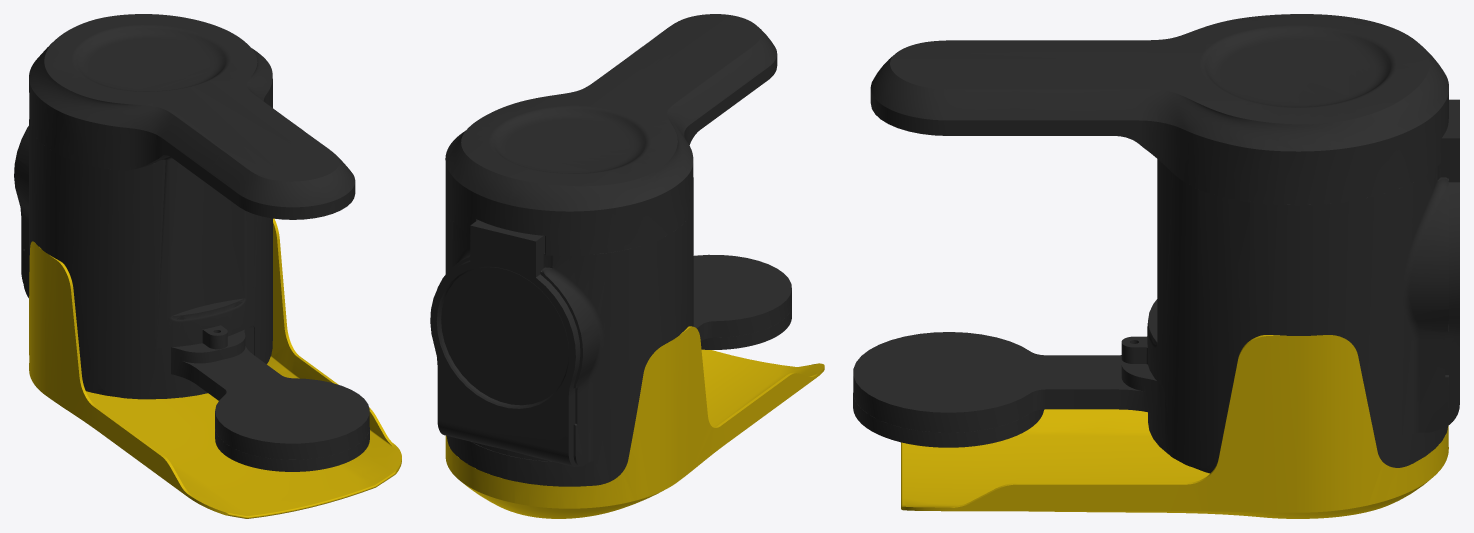
File: armr5.glb
3 views of the same model, side by side, from view 1: azimuth 30°, elevation 25°; view 2: azimuth 150°, elevation 25°; view 3: azimuth 270°, elevation 25° (orthographic). The views are drawn at different scales.
Parts seen in each view (by area): view 1: Mesh_0.001; view 2: Mesh_0.001; view 3: Mesh_0.001.
Part boxes in pixels (x1,y1,x2,y2): Mesh_0.001: [14, 14, 401, 518]; Mesh_0.001: [430, 14, 824, 518]; Mesh_0.001: [853, 14, 1459, 518].
Size of the model in its own units: 0.082 by 0.1246 by 0.165.
